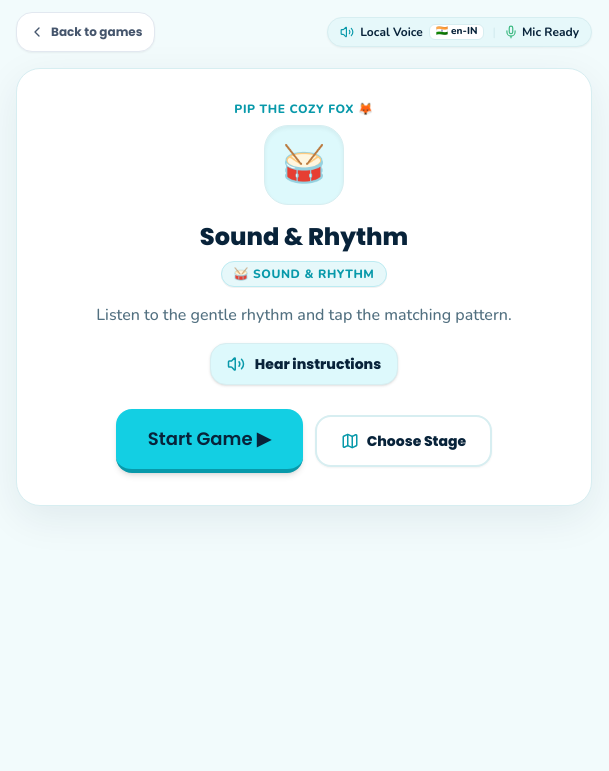
Test: Sound & Rhythm: Step 2 — Gameplay & Progression Integration › 16. renders intro screen with GameProgressionHub showing 3 developmental stages
Expected: the heading "Sound & Rhythm" is shown, [200,220,408,253]
Expected: the text "🥁 Sound & Rhythm" is shown, [220,261,388,287]
Click the button with test id "choose-stage-button": (403, 441) [315,415,492,467]
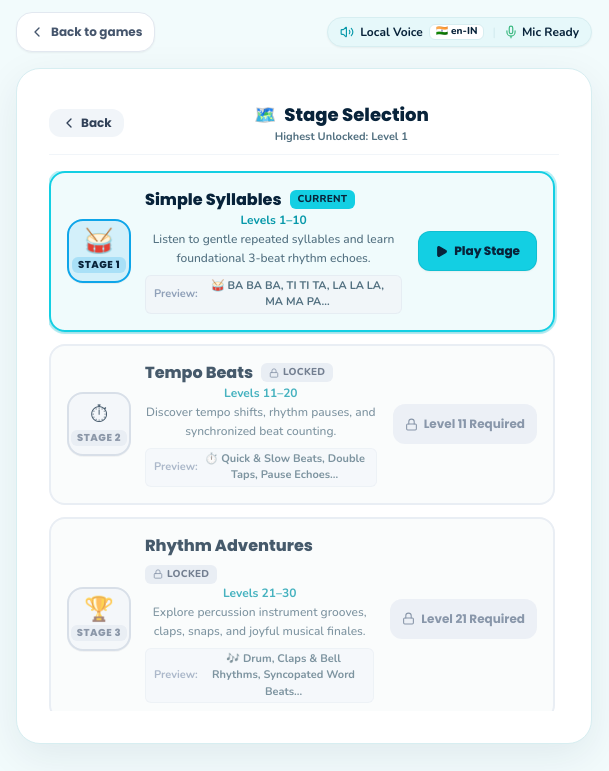
Expected: the text "Simple Syllables" is shown, [145,188,282,210]
Expected: the text "Tempo Beats" is shown, [145,362,253,384]
Expected: the text "Rhythm Adventures" is shown, [145,534,313,556]
